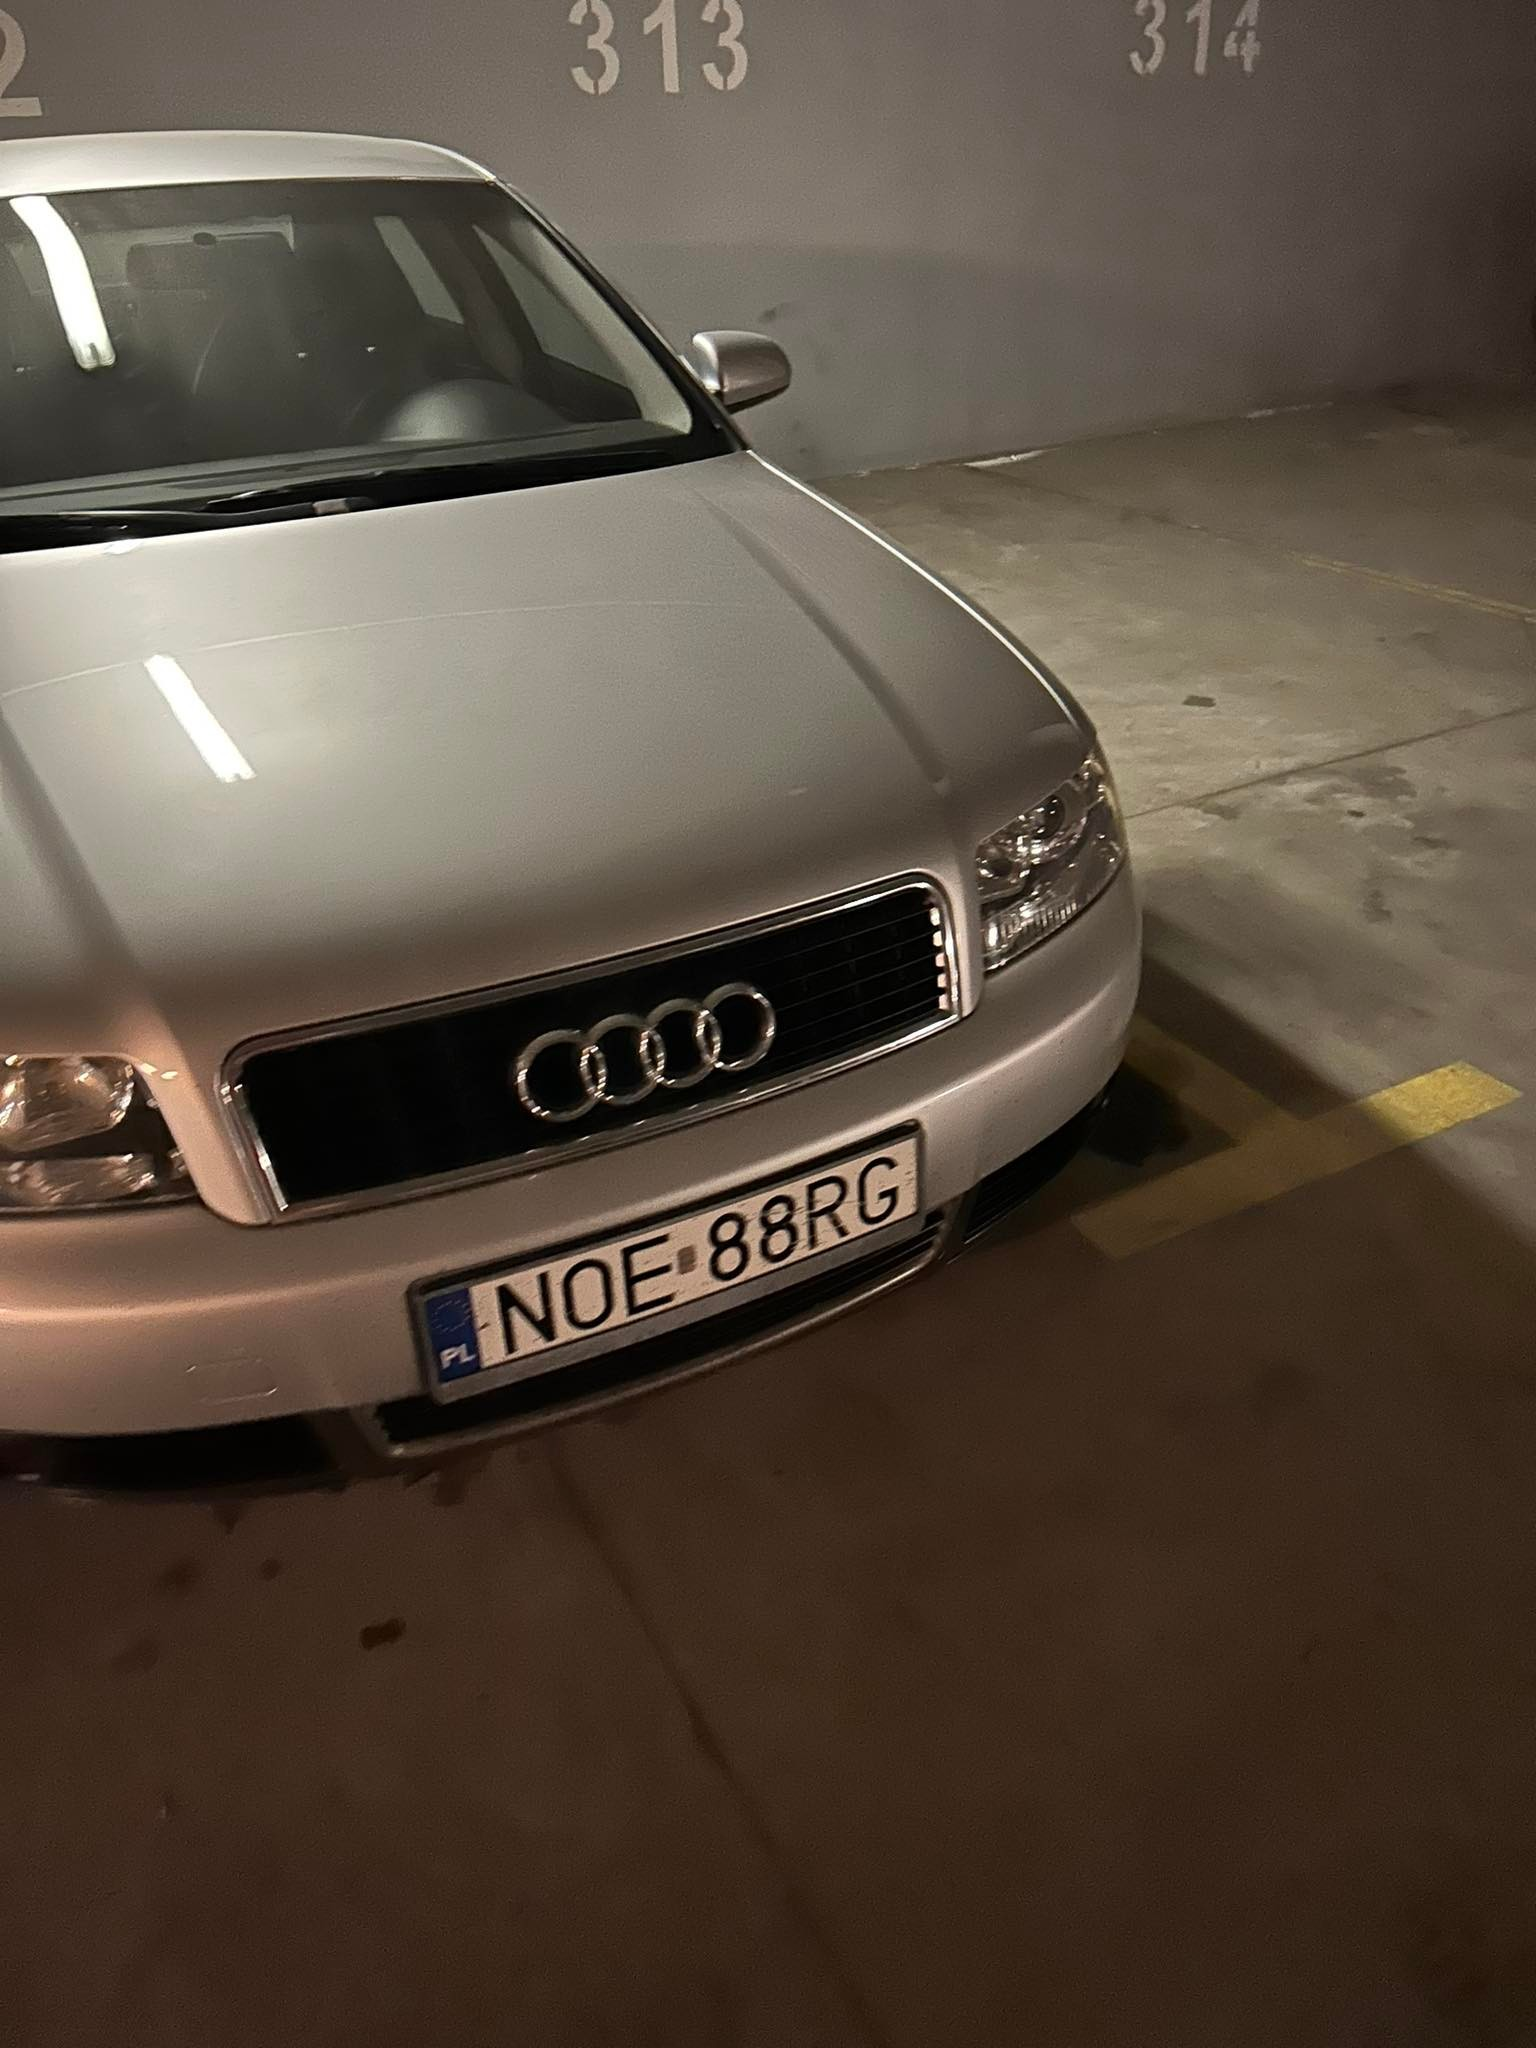number_plate: (412, 1123, 932, 1412)
